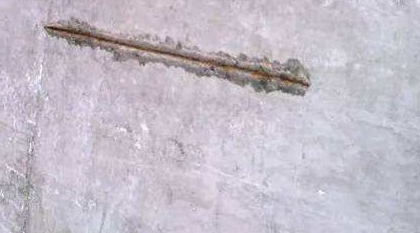Exposed reinforcement: (44, 26, 309, 90)
Spalling: (43, 17, 313, 97)
